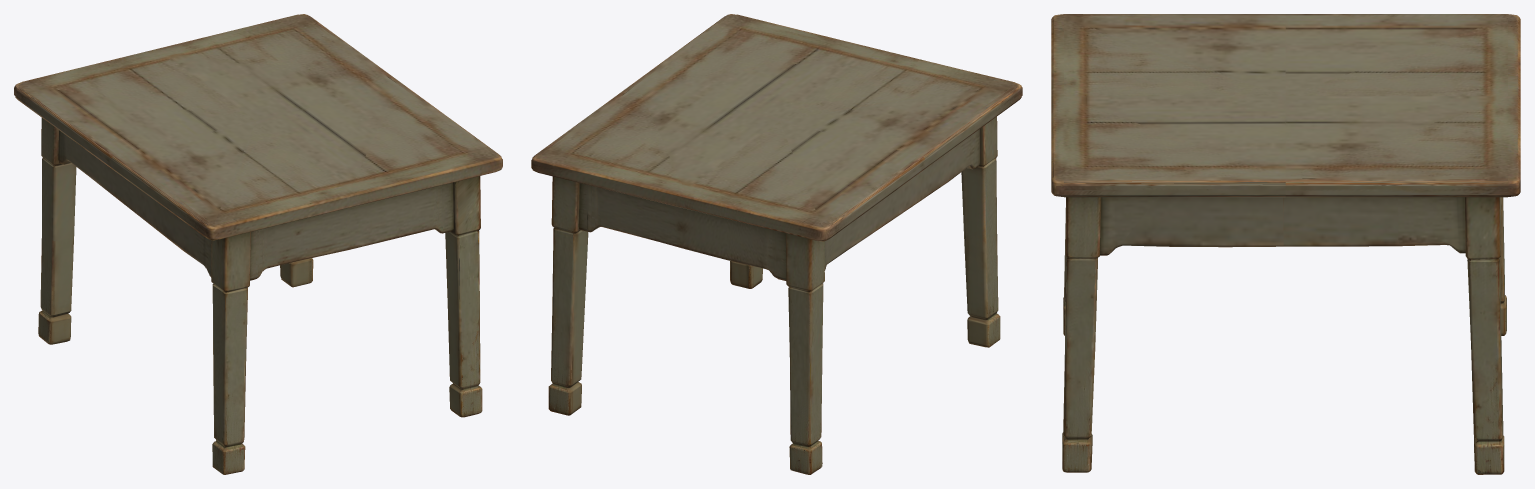
The picture shows the model from 3 angles, left to right: view 1: azimuth 30°, elevation 25°; view 2: azimuth 150°, elevation 25°; view 3: azimuth 270°, elevation 25°; orthographic projection. The views are drawn at different scales.
Visible parts, largest first — view 1: tripo_node_867103fb-bb04-4d2b-acb2-8ae180125c58; view 2: tripo_node_867103fb-bb04-4d2b-acb2-8ae180125c58; view 3: tripo_node_867103fb-bb04-4d2b-acb2-8ae180125c58.
Part boxes in pixels (left/top/right/bottom): tripo_node_867103fb-bb04-4d2b-acb2-8ae180125c58: left=14, top=14, right=502, bottom=474; tripo_node_867103fb-bb04-4d2b-acb2-8ae180125c58: left=531, top=14, right=1022, bottom=474; tripo_node_867103fb-bb04-4d2b-acb2-8ae180125c58: left=1051, top=14, right=1520, bottom=474.
Size of the model in its own units: 0.8535 by 0.709 by 0.998.
Materials: 1 (1 with a texture image).
